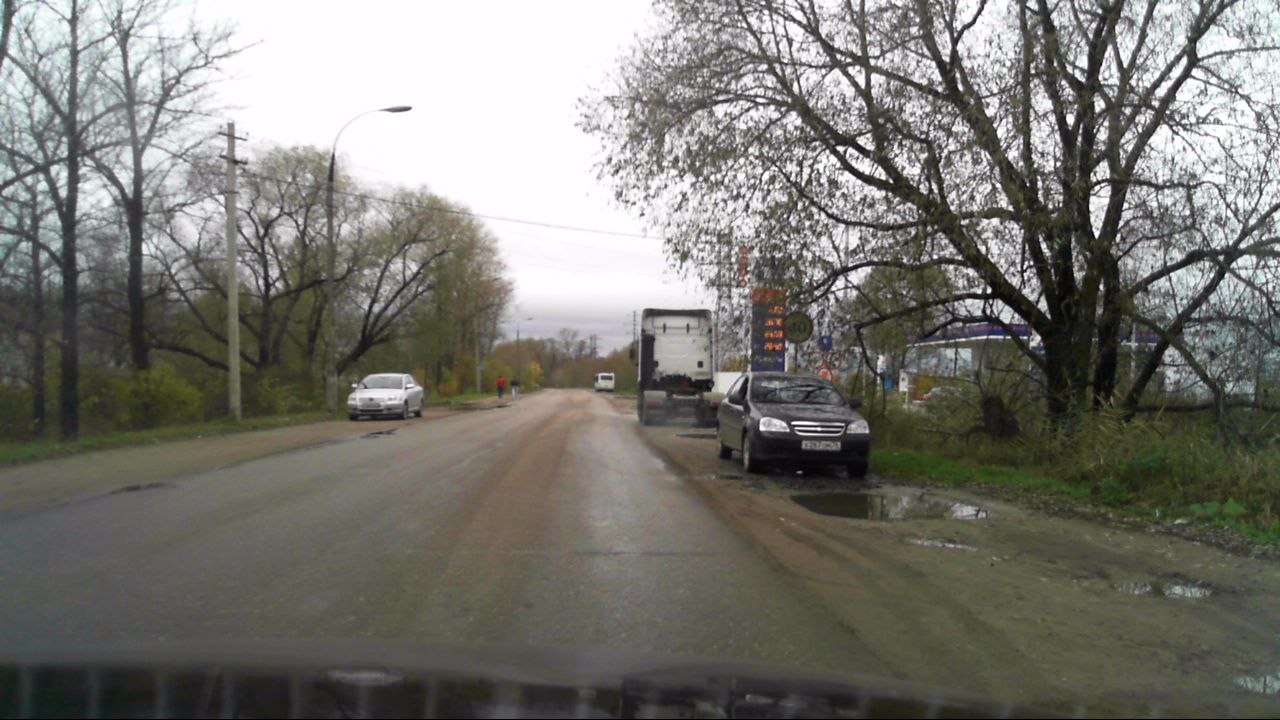speed_warning_40: (781, 310, 814, 343)
